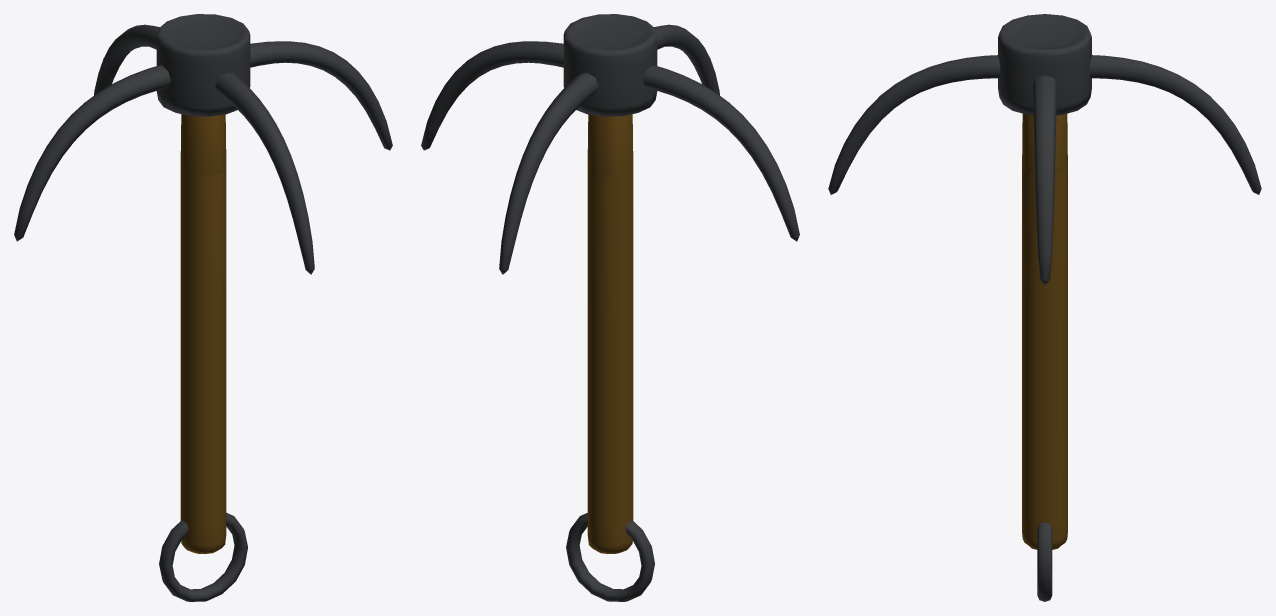
Rendered from Mesh_GrapplingHook.glb.
3 renders of one model, left to right at view 1: azimuth 30°, elevation 25°; view 2: azimuth 150°, elevation 25°; view 3: azimuth 270°, elevation 25°, orthographic.
Visible parts, largest first — view 1: Circle.001; view 2: Circle.001; view 3: Circle.001.
Boxes of the visible parts, left/top/right/bottom form: Circle.001: left=14, top=14, right=392, bottom=601; Circle.001: left=421, top=14, right=799, bottom=601; Circle.001: left=828, top=14, right=1261, bottom=601.
Bounding box in the file's own units: 2.74 × 3.94 × 2.74.
